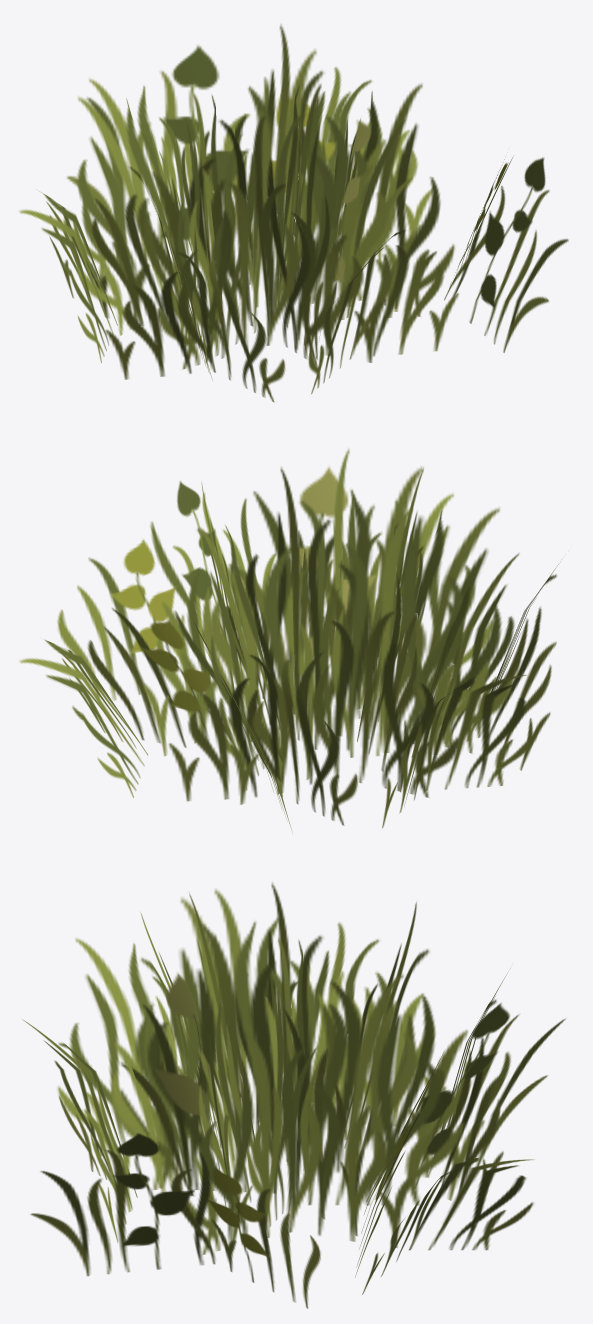
File: Forest_Grass_2.glb
3 renders of one model, top to bottom at view 1: azimuth 30°, elevation 25°; view 2: azimuth 150°, elevation 25°; view 3: azimuth 270°, elevation 25°, orthographic. The views are drawn at different scales.
Visible parts, largest first — view 1: Forest_Grass_2; view 2: Forest_Grass_2; view 3: Forest_Grass_2.
Part boxes in pixels (x1,y1,x2,y2): Forest_Grass_2: [19, 24, 568, 402]; Forest_Grass_2: [19, 448, 560, 832]; Forest_Grass_2: [22, 882, 565, 1308].
Bounding box in the file's own units: 1.3 × 0.7161 × 1.22.
Materials: 1 (1 with a texture image).
